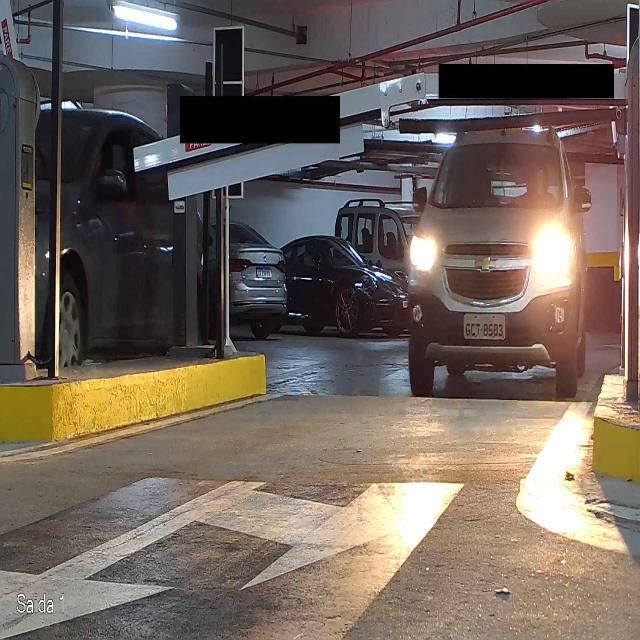old_plate: (462, 313, 507, 341)
